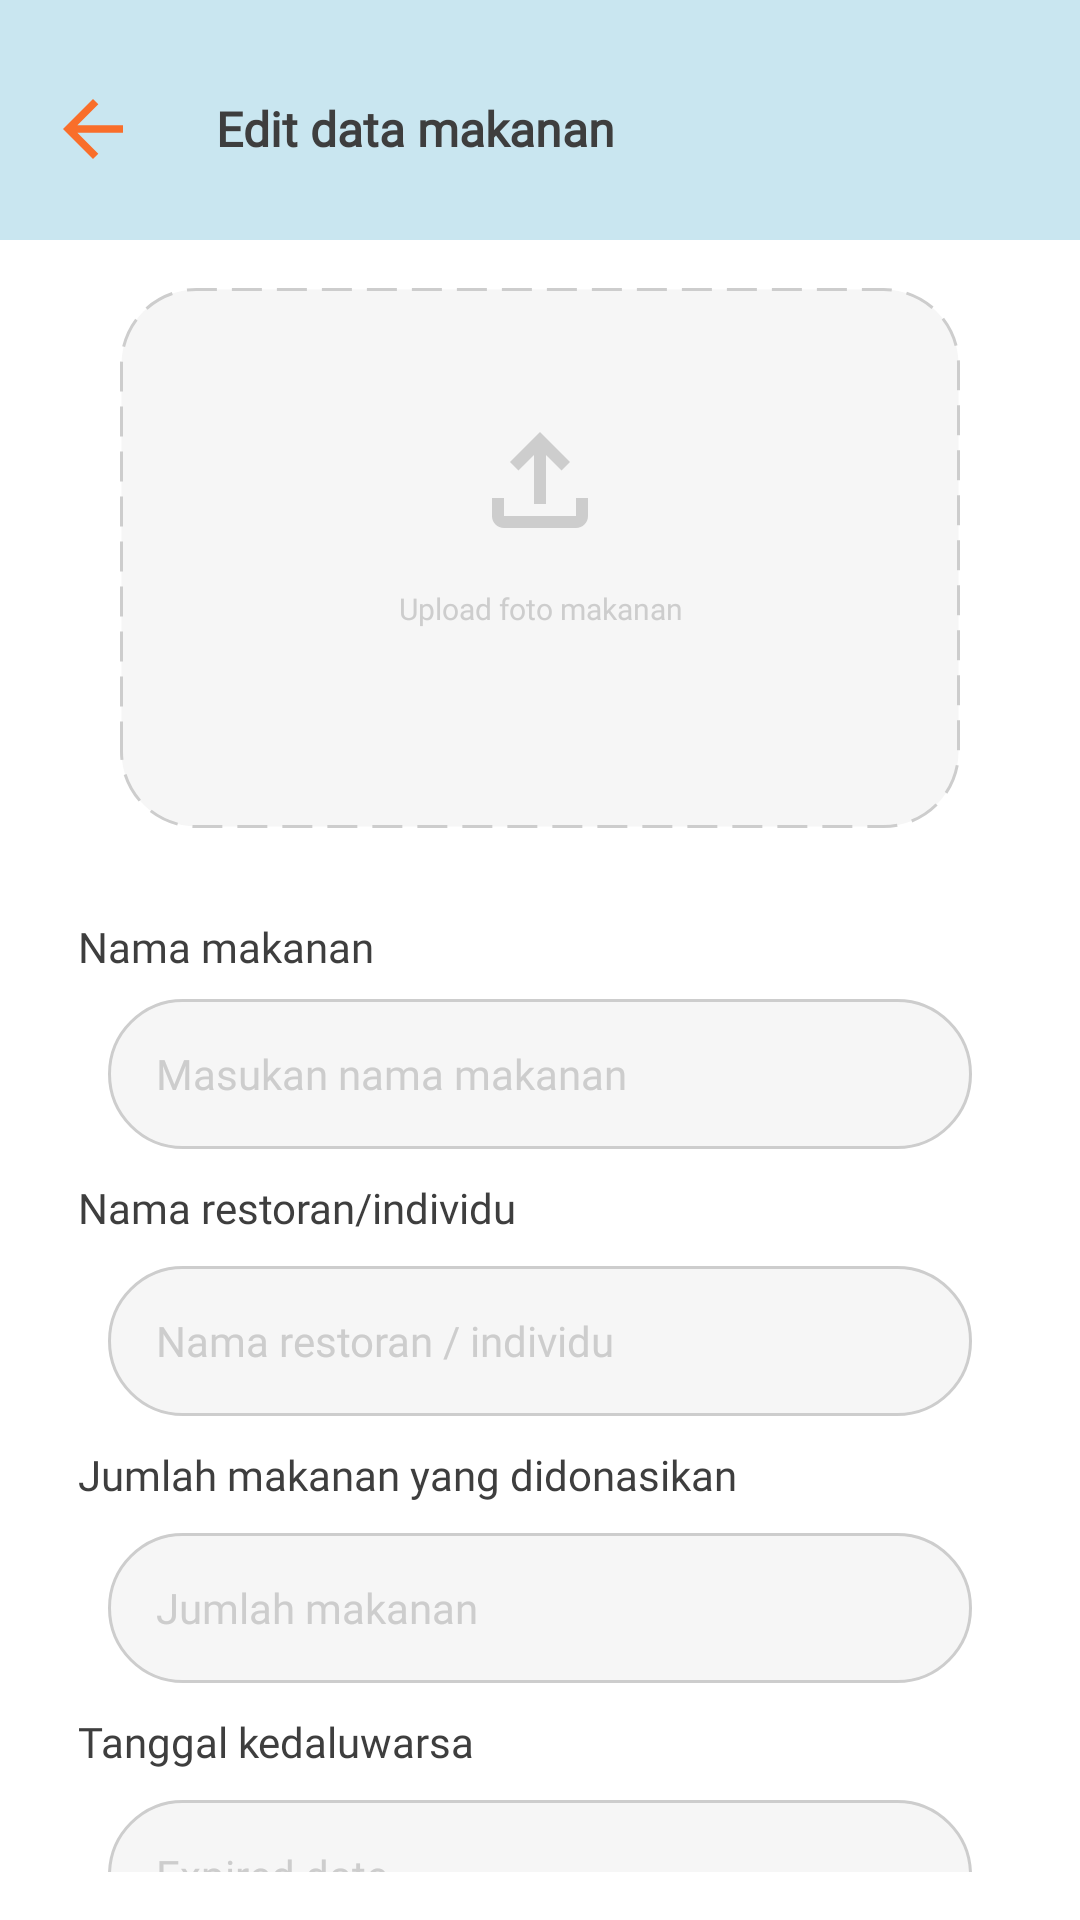

Where icons sit on this 1080w x 1920h app screen, as [left=x1, top=y1, right=x2, bottom=y2]:
back: [left=63, top=99, right=123, bottom=159]
